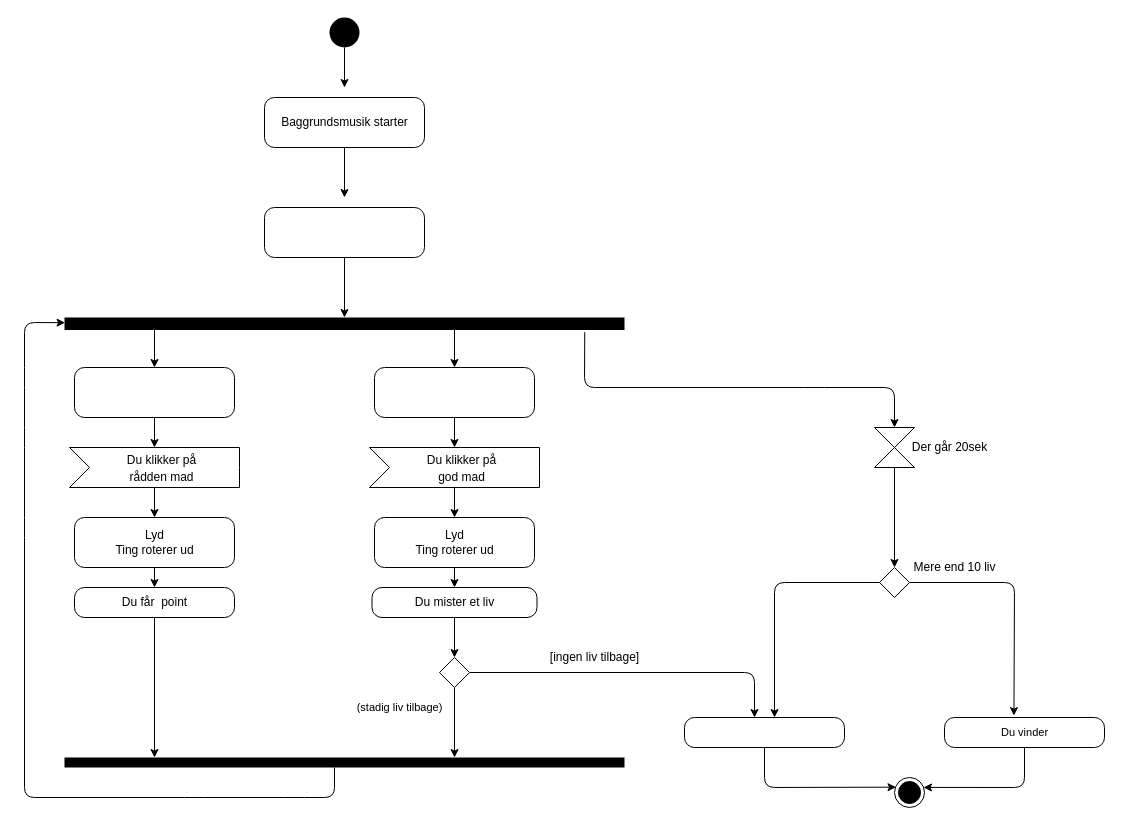
The diagram is 1122 pixels wide and 825 high, and some of its shapes have lost their labels. The shapes that lost their labels are listed below. From the top down, each one's centre as x and y in pixels, then its label:
point 344,232: Klik på start
point 154,392: Rådden mad falder ned
point 454,392: God mad falder ned
point 764,732: Game over
